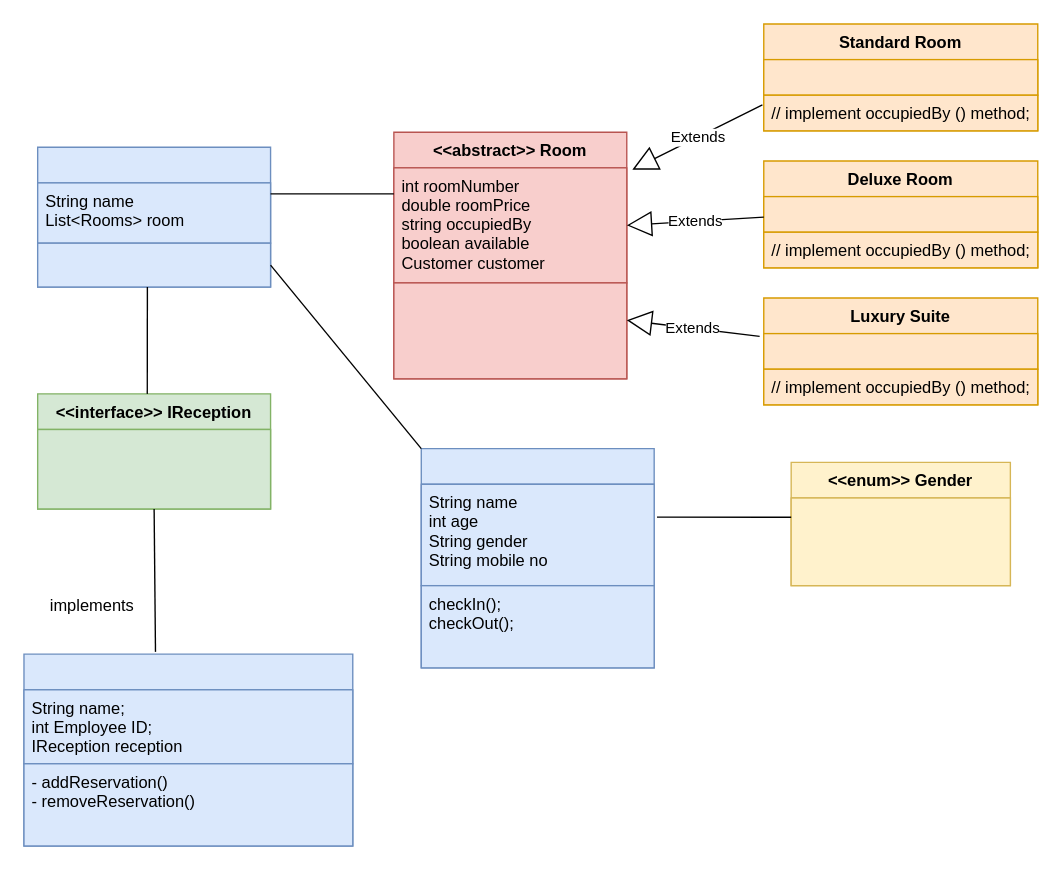
Some shapes in this 1062 by 874 pixel diagram are drawn without their labels. Each missing label, with the box of its shape:
addReservation (); removeReservation();: (36, 428, 271, 509)
Customer: (420, 447, 654, 668)
FEMALE, MALE,: (790, 497, 1010, 586)
Hotel: (36, 146, 271, 287)
occupiedBy() occupiedBy(Customer customer) //overload: (393, 282, 627, 379)
Receptionist: (23, 653, 353, 846)
